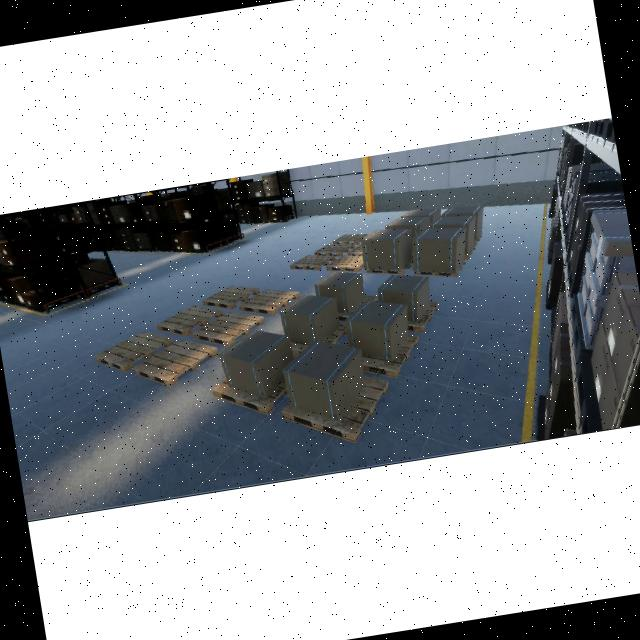wooden_pallet: (282, 376, 390, 443), (132, 339, 219, 387), (94, 330, 174, 373), (212, 376, 289, 414), (360, 333, 420, 377), (193, 311, 265, 346), (156, 305, 223, 337), (238, 288, 300, 314), (202, 285, 260, 309), (407, 298, 440, 332), (413, 257, 467, 276), (366, 257, 415, 274), (291, 254, 336, 270), (326, 255, 364, 272), (314, 243, 355, 256), (332, 234, 370, 245), (347, 242, 362, 255)
